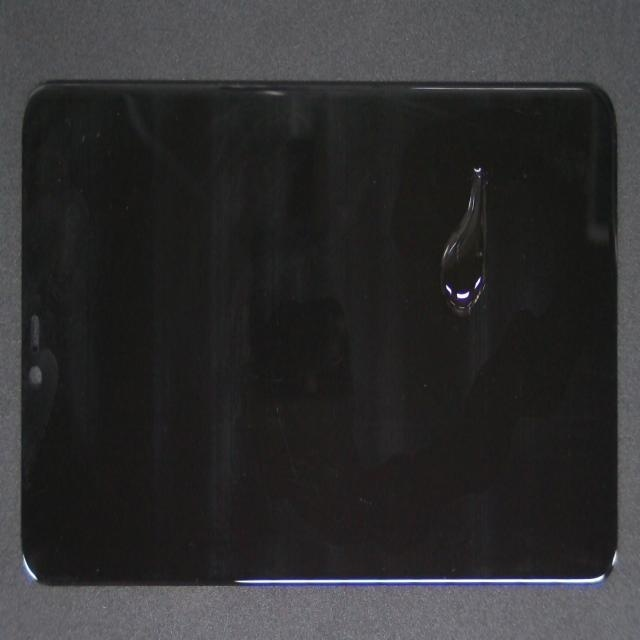oil: (258, 29, 640, 295)
